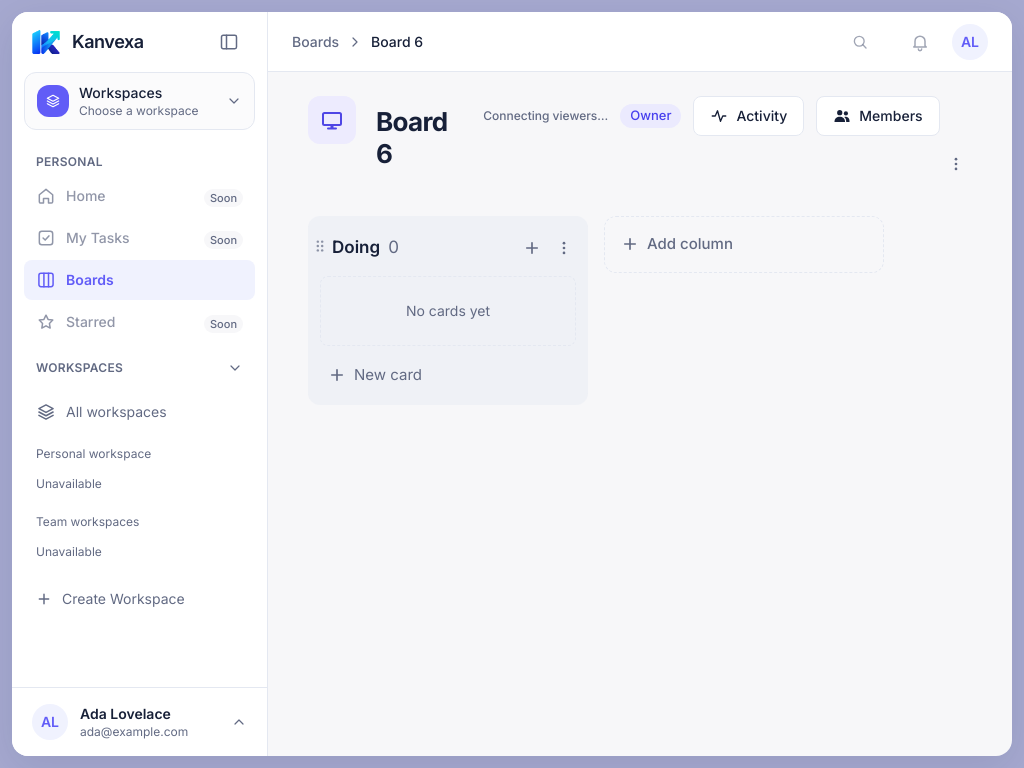
Scenario: column actions › renames a column, keeping Save disabled until the name changes
The width and height of the screenshot is (1024, 768).
Click the button named "Actions for column Doing" at (564, 248), box [548,232,580,264]
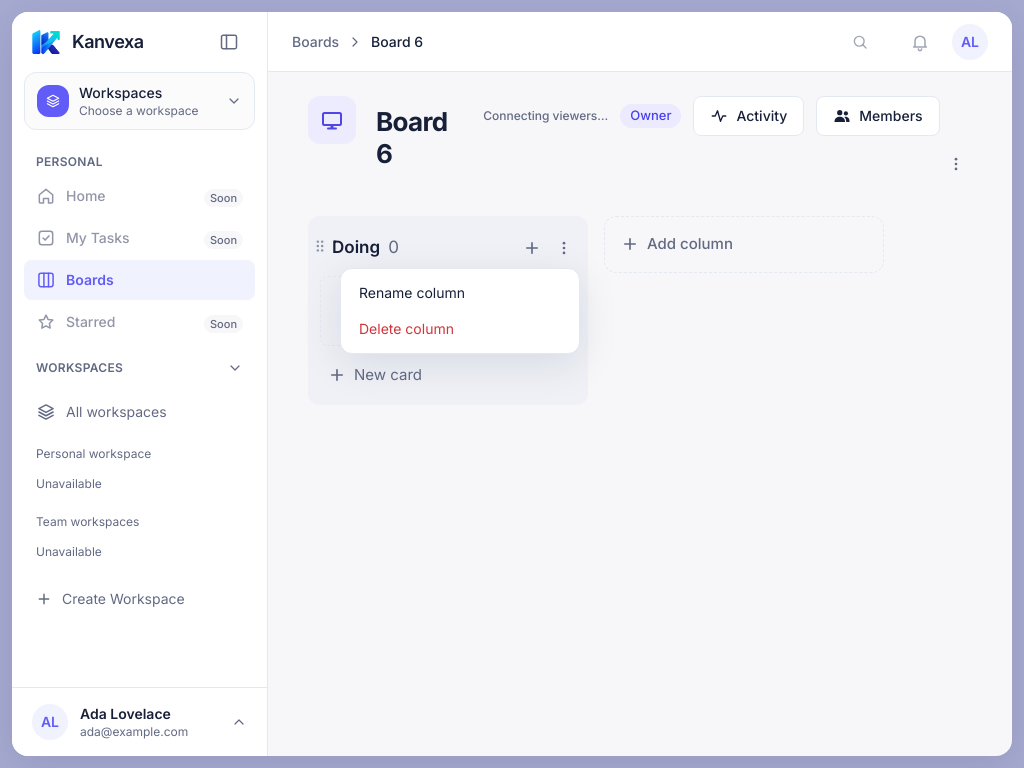
Click the button "Rename column" at (460, 293), box [347,275,573,311]
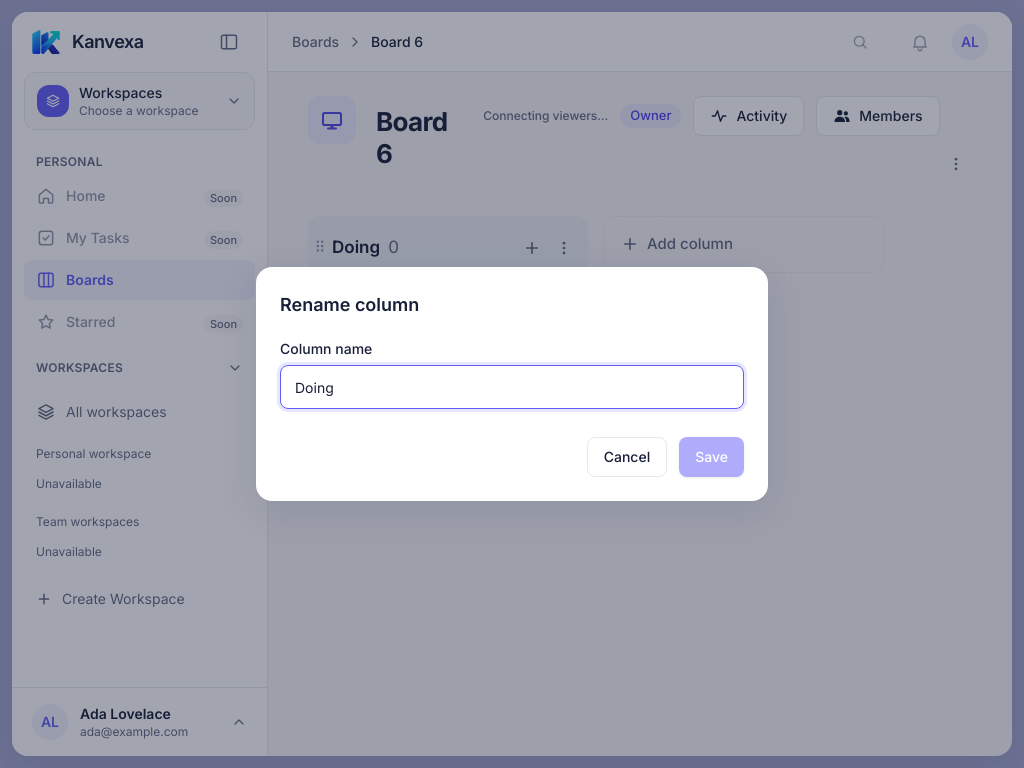
Expected: the button "Save" is disabled, [679,437,744,477]
Replace the text in the field labelled "Column name" with "In Progress" at (512, 387), box [280,365,744,409]
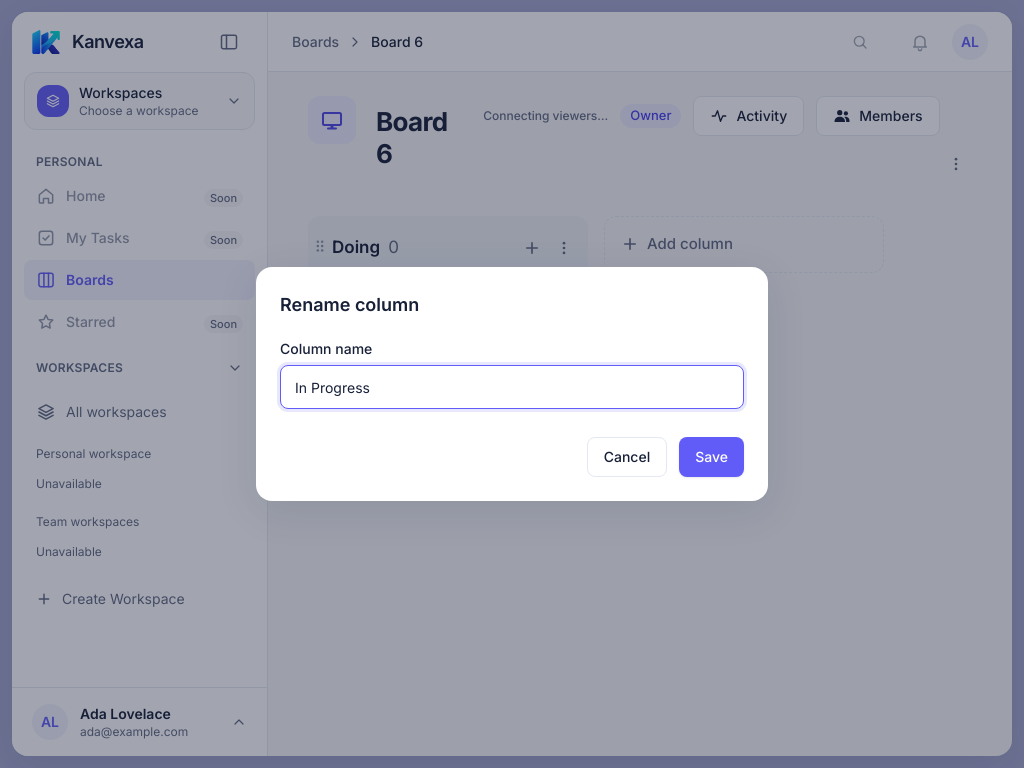
Click the button "Save" at (712, 457), box [679,437,744,477]
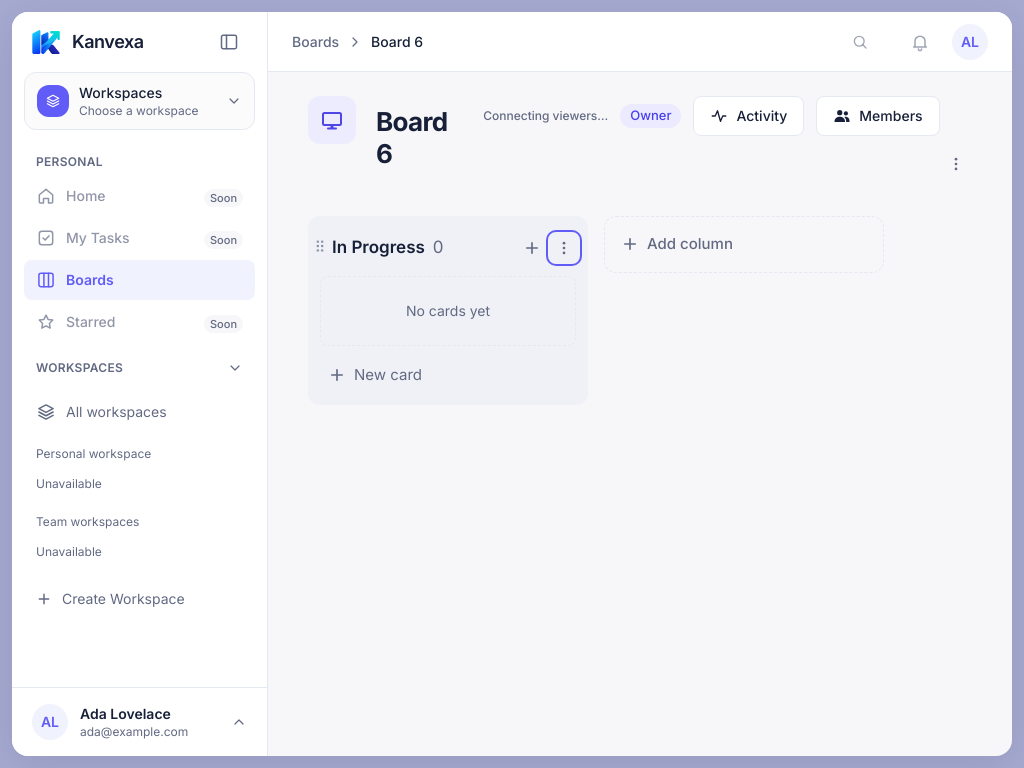
Expected: the heading "In Progress" is shown, [332,235,425,261]
